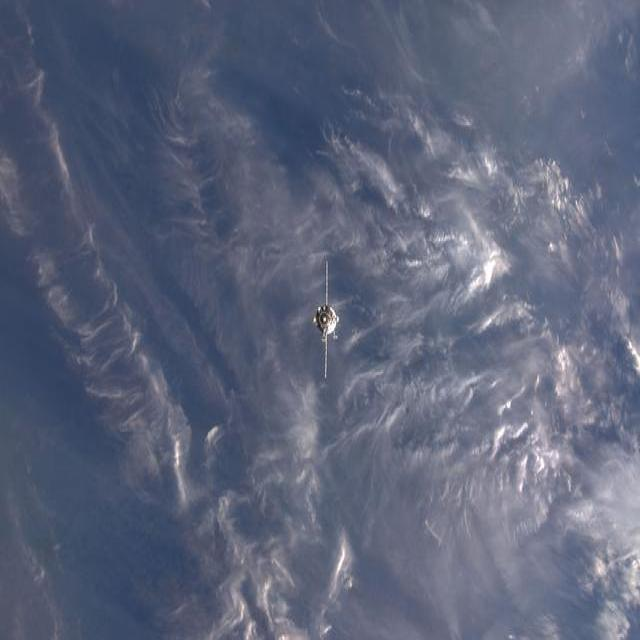medium_debris: (314, 258, 339, 379)
